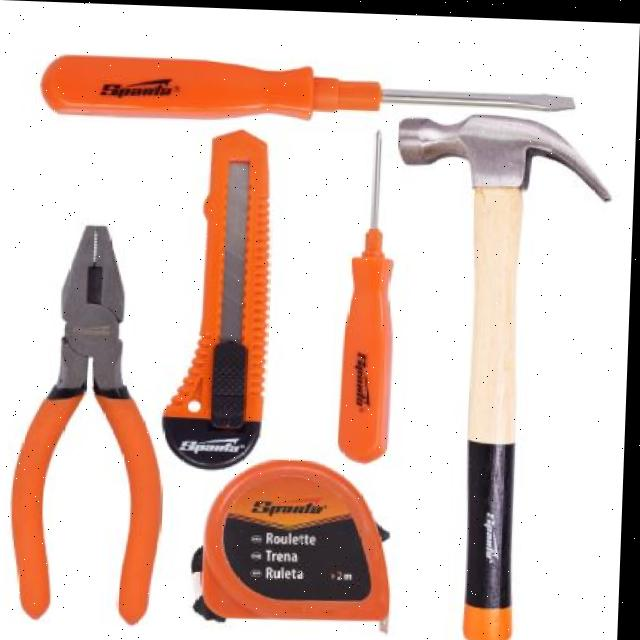Screwdriver: (43, 55, 575, 117), (342, 127, 395, 459)
